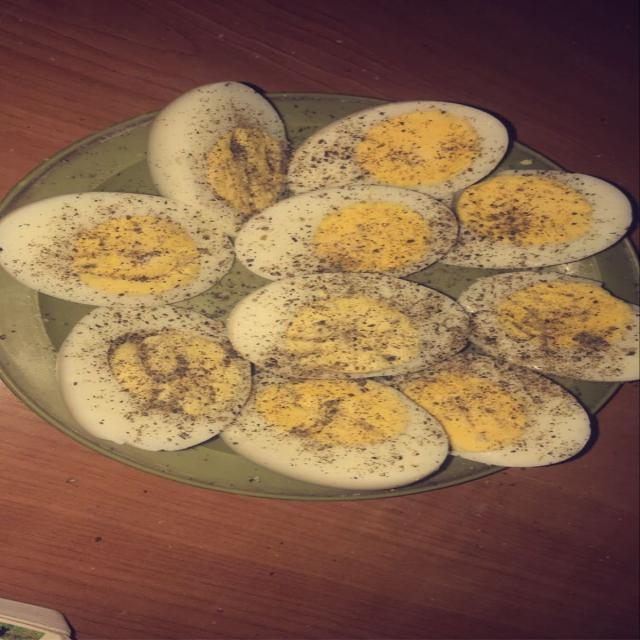eggs: (12, 95, 634, 473)
